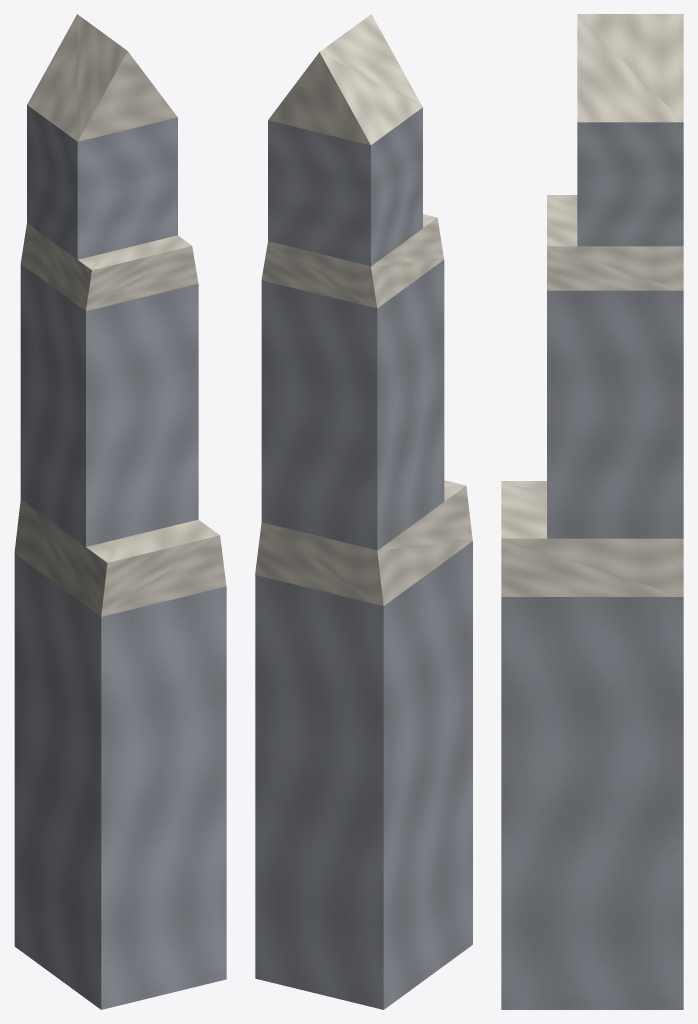
File: vampire-crypt-and-gothic-cathedral-buttress-be422d0e__22939.glb
3 renders of one model, left to right at view 1: azimuth 30°, elevation 25°; view 2: azimuth 150°, elevation 25°; view 3: azimuth 270°, elevation 25°, orthographic. The views are drawn at different scales.
Parts seen in each view (by area): view 1: buttress; view 2: buttress; view 3: buttress.
Part boxes in pixels (x1,y1,x2,y2): buttress: [14, 14, 226, 1009]; buttress: [255, 14, 472, 1009]; buttress: [501, 14, 683, 1009].
Bounding box in the file's own units: 1 × 7 × 1.2.
2 materials, 2 textured.
